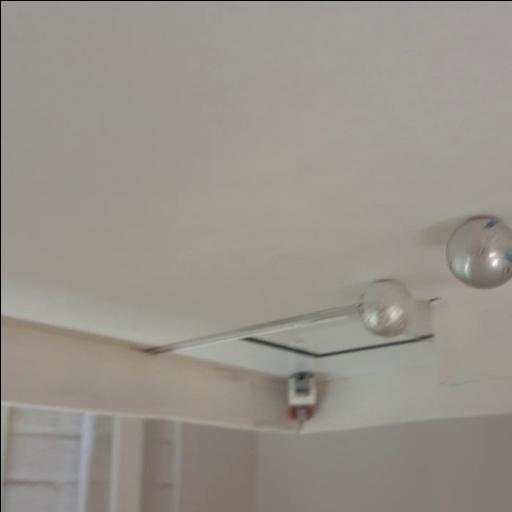alive: (442, 214, 512, 290), (353, 278, 413, 338)
